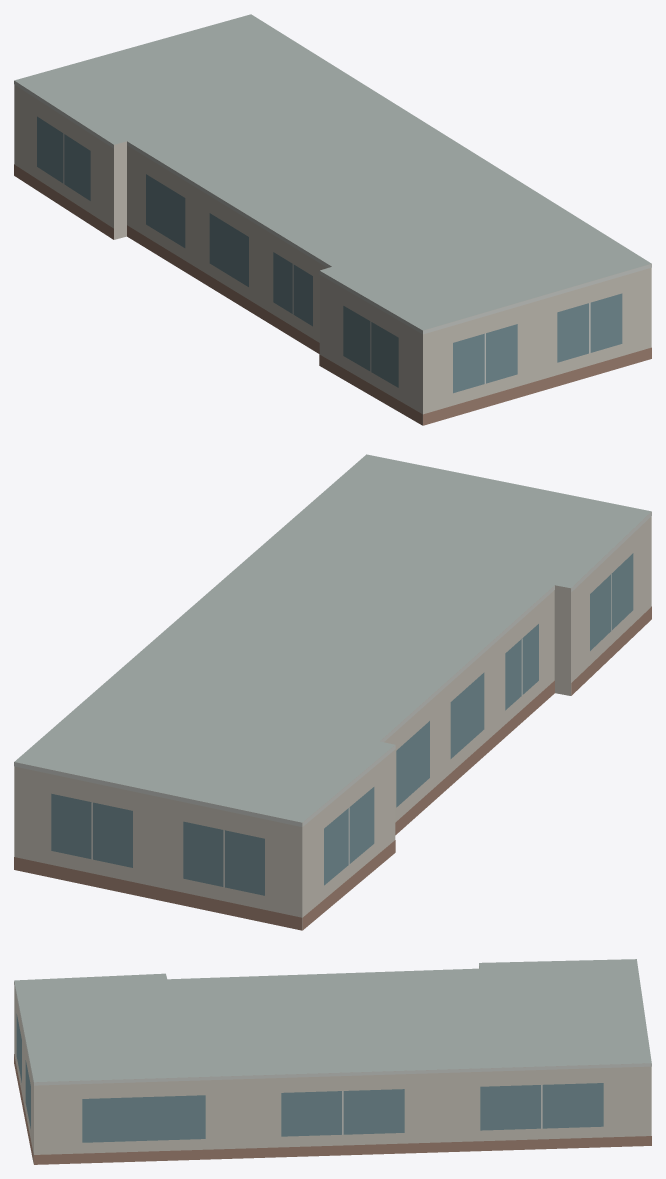
Rendered from survey-upis-32981120.glb.
The picture shows the model from 3 angles, top to bottom: view 1: azimuth 30°, elevation 25°; view 2: azimuth 150°, elevation 25°; view 3: azimuth 270°, elevation 25°; orthographic projection. The views are drawn at different scales.
Visible parts, largest first — view 1: survey-upis-32981120.tmp; view 2: survey-upis-32981120.tmp; view 3: survey-upis-32981120.tmp.
Part boxes in pixels (x1,y1,x2,y2): survey-upis-32981120.tmp: (14, 14, 651, 425); survey-upis-32981120.tmp: (14, 454, 651, 930); survey-upis-32981120.tmp: (14, 959, 651, 1164).
Size of the model in its own units: 9.76 by 3.05 by 21.34.
